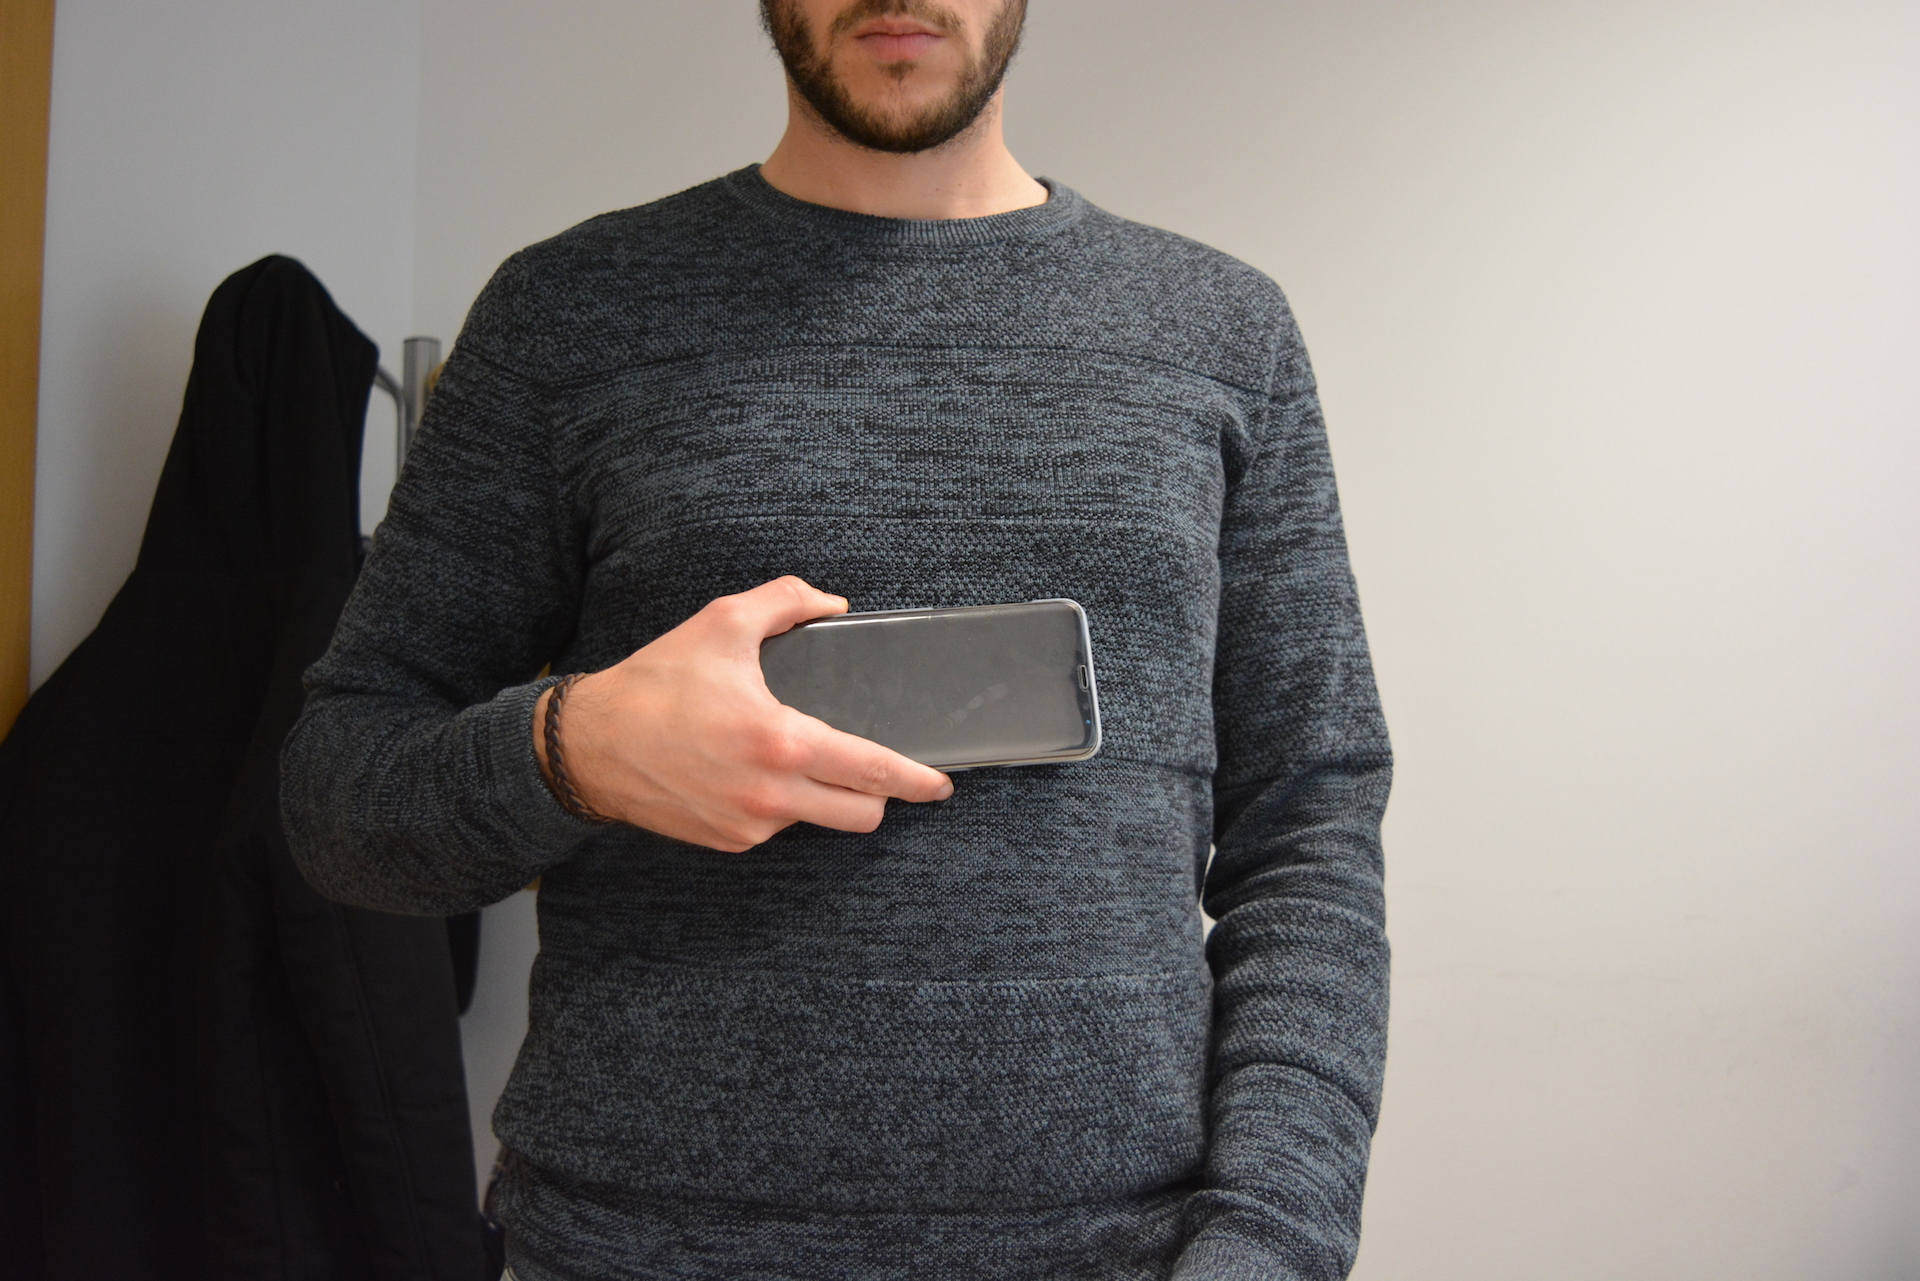smartphone: (752, 596, 1104, 776)
